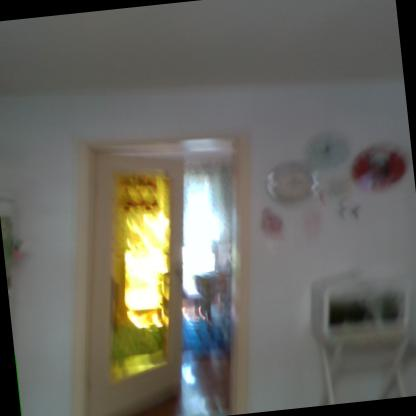semi: (68, 111, 279, 415)
